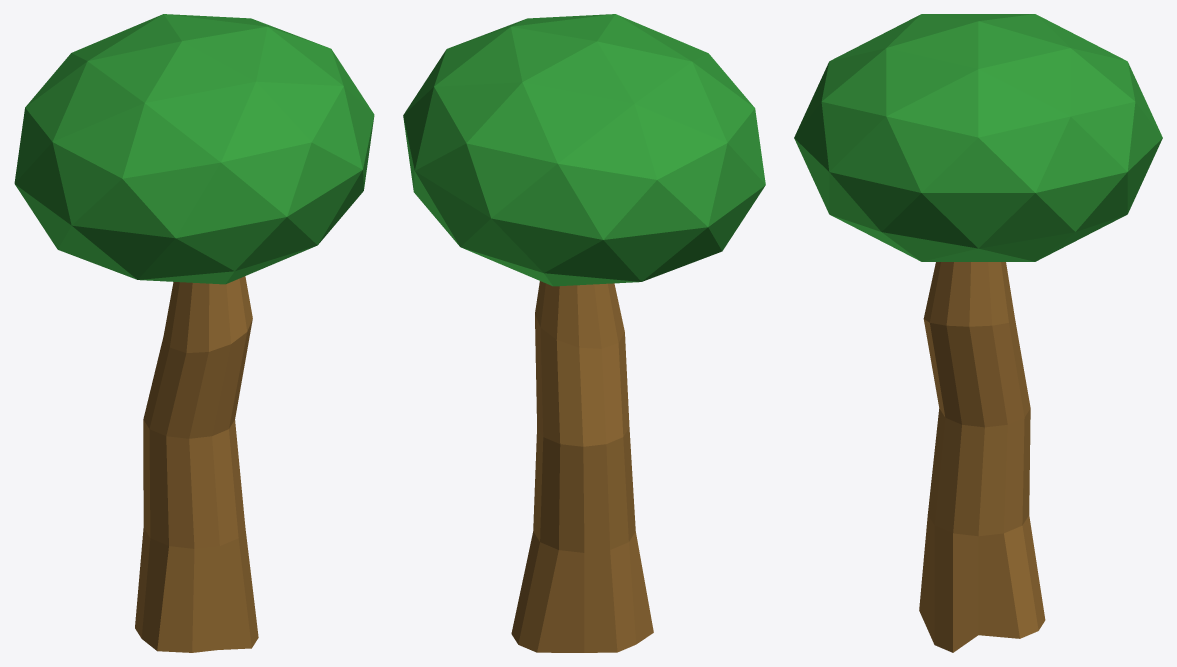
Rendered from Tree_03.fbx.
3 views of the same model, side by side, from view 1: azimuth 30°, elevation 25°; view 2: azimuth 150°, elevation 25°; view 3: azimuth 270°, elevation 25° (orthographic).
Parts seen in each view (by area): view 1: Tree03; view 2: Tree03; view 3: Tree03.
Boxes of the visible parts, x1,y1,x2,y2 form: Tree03: (14,14,374,652); Tree03: (403,14,765,652); Tree03: (794,14,1162,652).
Bounding box in the file's own units: 639 × 1215 × 676.
